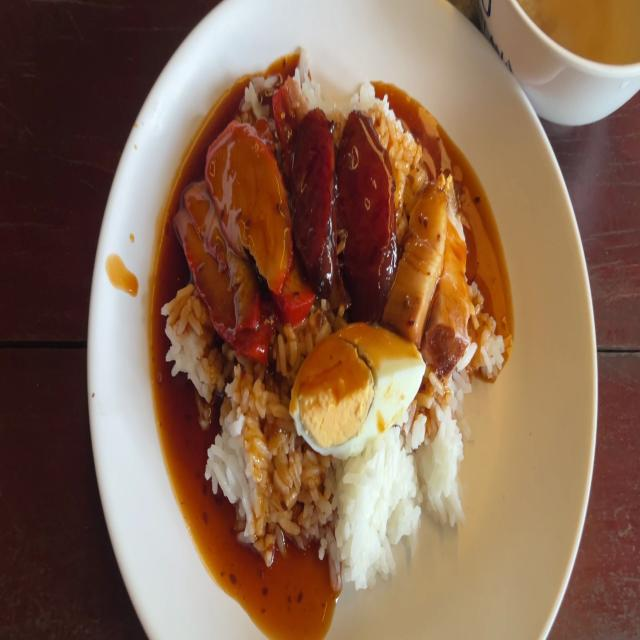01boiled_egg: (295, 326, 422, 451)
01chainese_sausage: (296, 106, 394, 305), (340, 106, 391, 303), (294, 106, 344, 296)
01crispy_pork: (391, 170, 477, 358), (396, 176, 447, 337), (442, 185, 471, 364)
01red_pork: (176, 121, 290, 336), (179, 196, 263, 354), (216, 130, 290, 276), (196, 193, 264, 331), (277, 268, 312, 324)
01red_pork_and_crispy_pork: (174, 53, 480, 560)
01rice: (211, 367, 290, 546), (334, 434, 416, 578), (413, 409, 462, 525), (168, 292, 210, 394), (343, 80, 389, 124), (290, 52, 314, 104)
